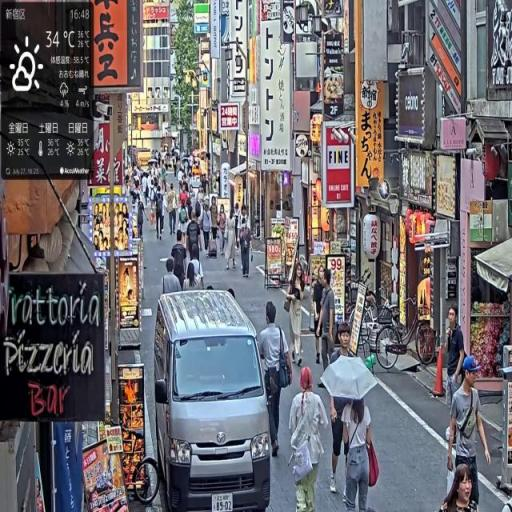person: (445, 358, 493, 510), (288, 366, 332, 511), (258, 300, 294, 461), (343, 395, 380, 512), (285, 260, 306, 366), (317, 270, 337, 374), (441, 462, 480, 512), (238, 213, 253, 281), (168, 183, 179, 237)
